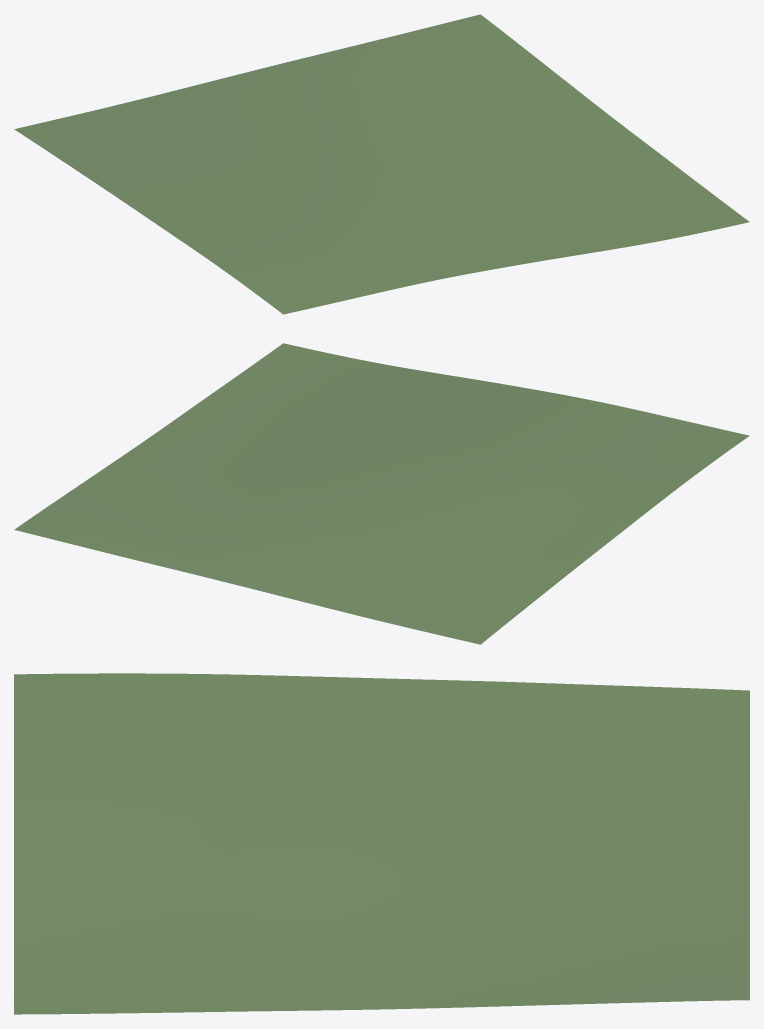
File: floor_001_chunk_x-03_z+11_lod0.glb
3 views of the same model, one above another, from view 1: azimuth 30°, elevation 25°; view 2: azimuth 150°, elevation 25°; view 3: azimuth 270°, elevation 25° (orthographic). The views are drawn at different scales.
Parts seen in each view (by area): view 1: floor_001_chunk_x-03_z+11_lod0; view 2: floor_001_chunk_x-03_z+11_lod0; view 3: floor_001_chunk_x-03_z+11_lod0.
Part boxes in pixels (x1=…): floor_001_chunk_x-03_z+11_lod0: x1=14, y1=14, x2=749, y2=314; floor_001_chunk_x-03_z+11_lod0: x1=14, y1=343, x2=749, y2=644; floor_001_chunk_x-03_z+11_lod0: x1=14, y1=673, x2=749, y2=1014.
Size of the model in its own units: 256 by 11.53 by 256.
